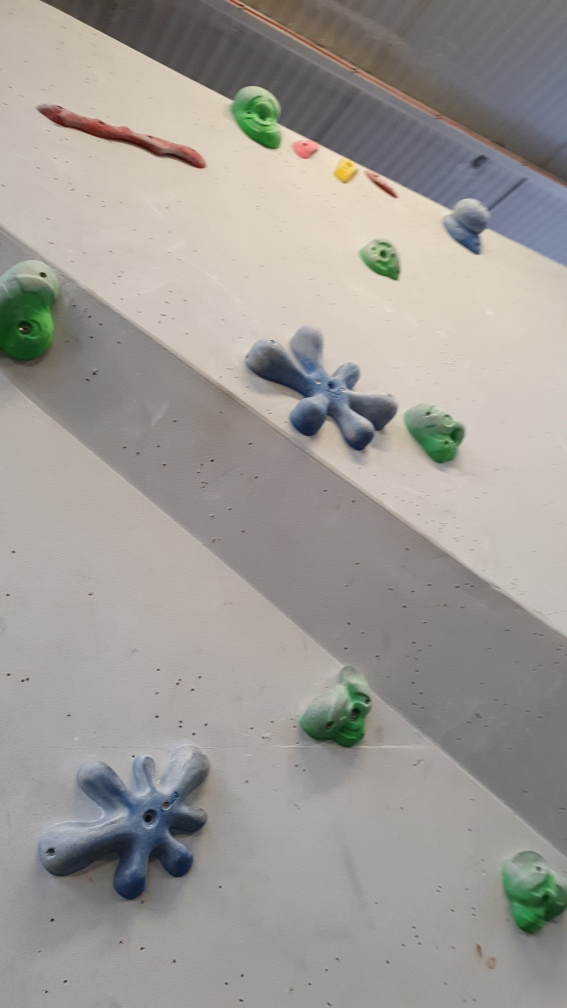Crimp: (364, 164, 397, 200), (295, 139, 323, 165)
Jug: (1, 260, 73, 371), (295, 663, 375, 752), (501, 845, 566, 944), (227, 74, 288, 153), (403, 398, 472, 465), (361, 233, 402, 281)
Octopus Pinch: (35, 738, 219, 909), (246, 321, 403, 449)
Sloper: (440, 193, 495, 260)
